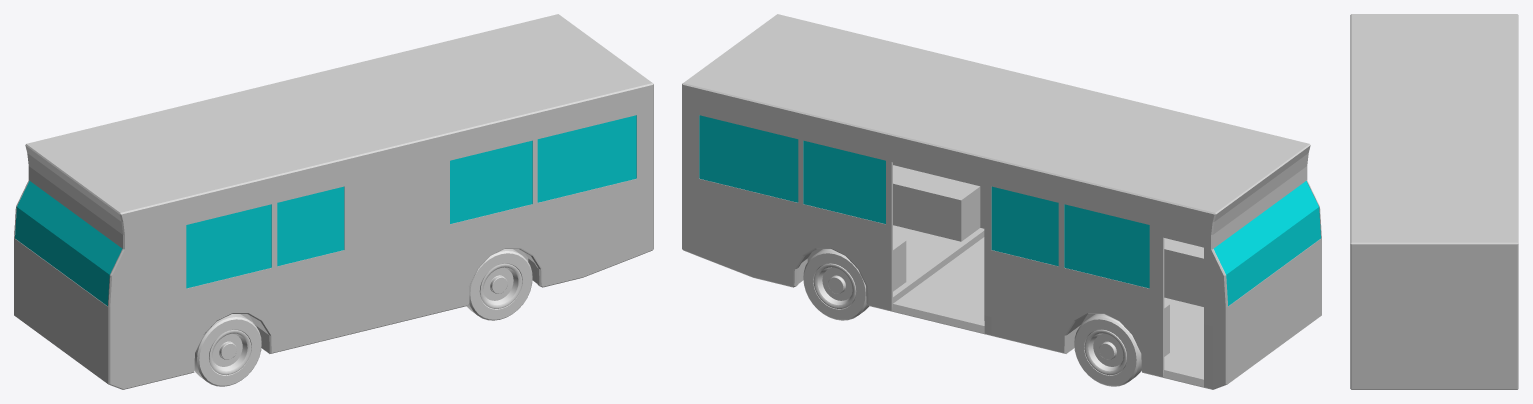
Rendered from Bus_Up.fbx.
3 renders of one model, left to right at view 1: azimuth 30°, elevation 25°; view 2: azimuth 150°, elevation 25°; view 3: azimuth 270°, elevation 25°, orthographic. The views are drawn at different scales.
Parts seen in each view (by area): view 1: Cube, Others_Glass, Lob_Glase, Up_L, Down_2; view 2: Cube, Others_Glass, Lob_Glase, Up_R, Down_2; view 3: Cube.
Boxes of the visible parts, x1=… form: Cube: x1=14, y1=14, x2=653, y2=389; Others_Glass: x1=186, y1=115, x2=636, y2=288; Lob_Glase: x1=15, y1=181, x2=122, y2=306; Up_L: x1=194, y1=314, x2=261, y2=386; Down_2: x1=466, y1=249, x2=532, y2=320; Cube: x1=682, y1=14, x2=1321, y2=389; Others_Glass: x1=699, y1=115, x2=1149, y2=288; Lob_Glase: x1=1213, y1=181, x2=1320, y2=306; Up_R: x1=1074, y1=314, x2=1141, y2=386; Down_2: x1=803, y1=249, x2=869, y2=320; Cube: x1=1350, y1=14, x2=1518, y2=389.
Size of the model in its own units: 807 by 287 by 245.
